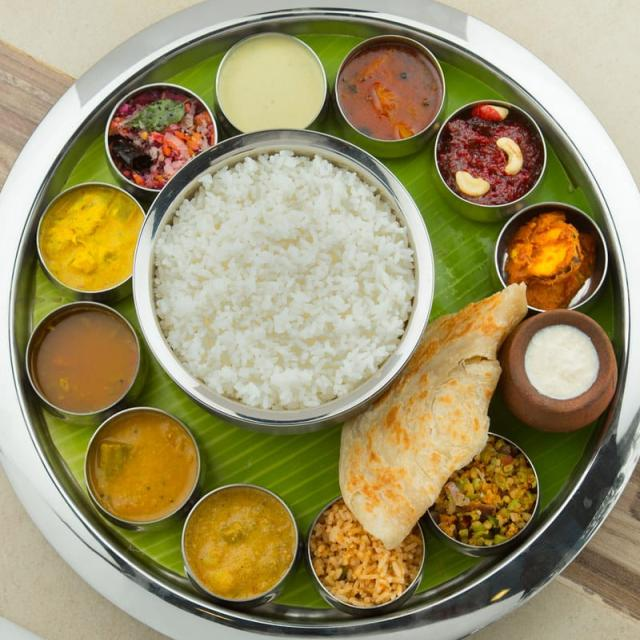veg meals: (12, 14, 640, 640)
